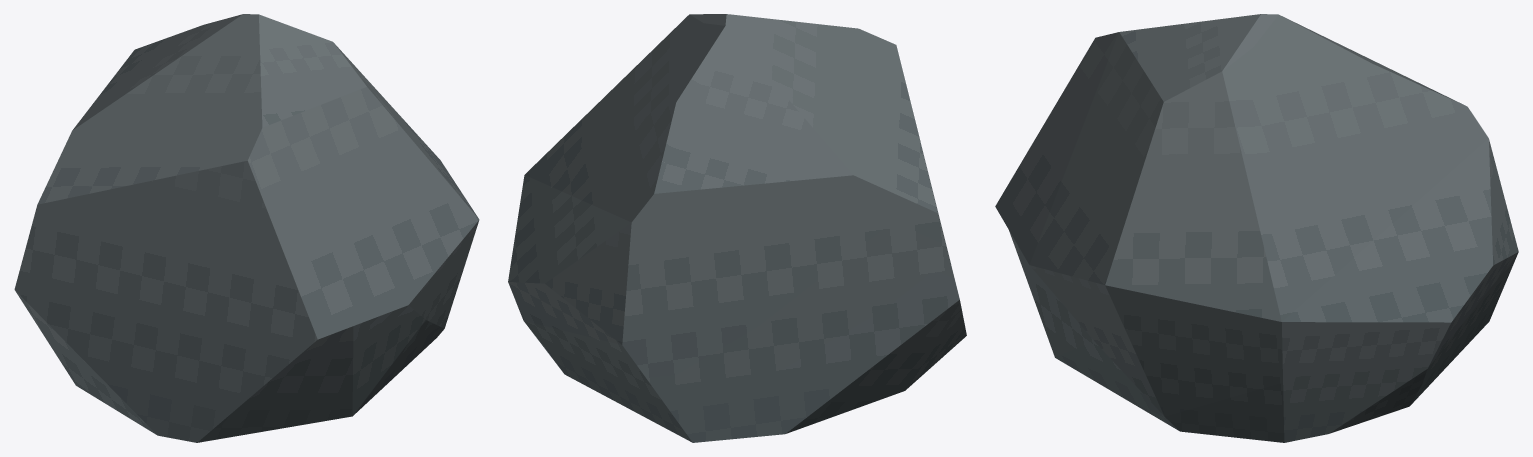
File: Caillou.glb
The picture shows the model from 3 angles, left to right: view 1: azimuth 30°, elevation 25°; view 2: azimuth 150°, elevation 25°; view 3: azimuth 270°, elevation 25°; orthographic projection. The views are drawn at different scales.
Parts seen in each view (by area): view 1: Cube; view 2: Cube; view 3: Cube.
Part boxes in pixels (bbox=[...]): Cube: bbox=[14, 14, 479, 442]; Cube: bbox=[508, 14, 966, 442]; Cube: bbox=[995, 14, 1518, 442].
Bounding box in the file's own units: 1.18 × 0.867 × 1.19.
Materials: 1 (1 with a texture image).
